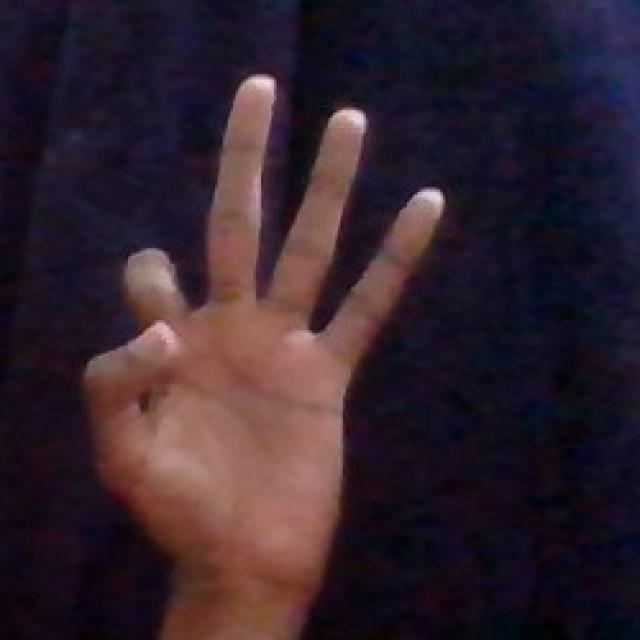Numeric-9: (79, 65, 448, 563)
